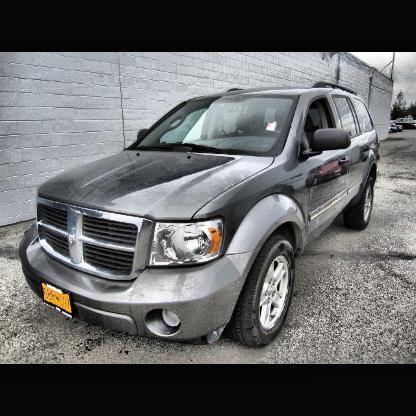Dodge Durango SUV 2007: (20, 81, 382, 353)
